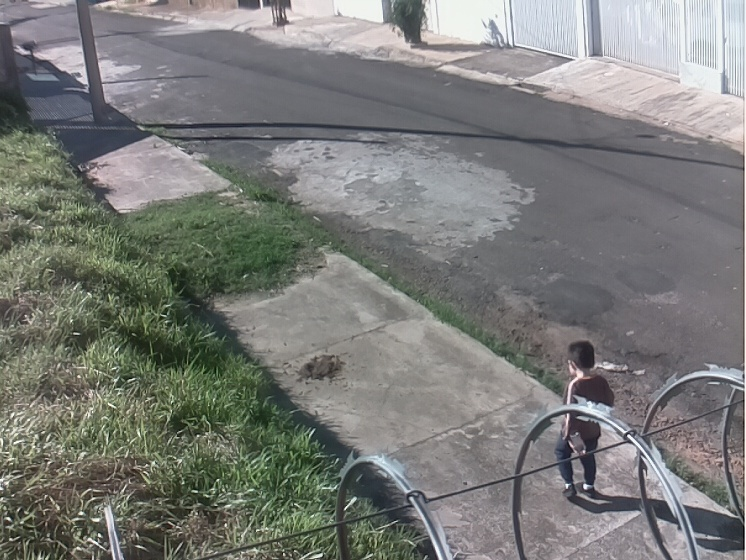person: (553, 340, 615, 501)
